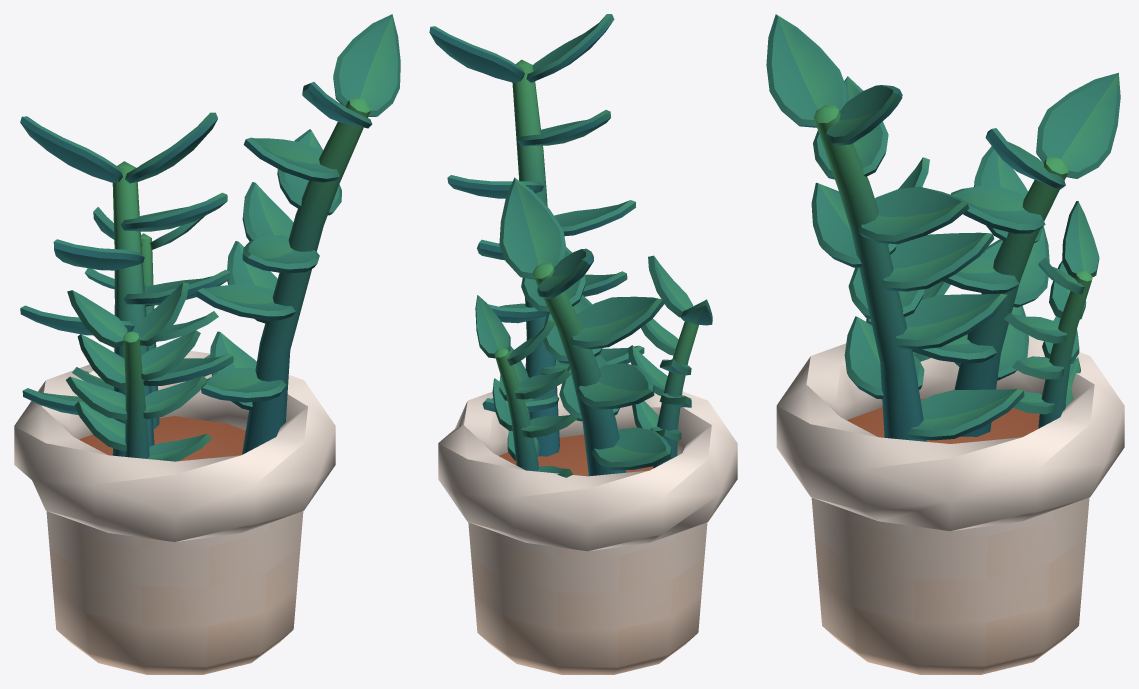
Rendered from Plant.glb.
3 views of the same model, side by side, from view 1: azimuth 30°, elevation 25°; view 2: azimuth 150°, elevation 25°; view 3: azimuth 270°, elevation 25° (orthographic). The views are drawn at different scales.
Parts seen in each view (by area): view 1: zzplant_plant_medium_potted; view 2: zzplant_plant_medium_potted; view 3: zzplant_plant_medium_potted.
Part boxes in pixels (left/top/right/bottom): zzplant_plant_medium_potted: left=14, top=14, right=400, bottom=674; zzplant_plant_medium_potted: left=429, top=14, right=737, bottom=674; zzplant_plant_medium_potted: left=766, top=14, right=1124, bottom=674.
Size of the model in its own units: 1.18 by 1.98 by 1.
Materials: 1 (1 with a texture image).
